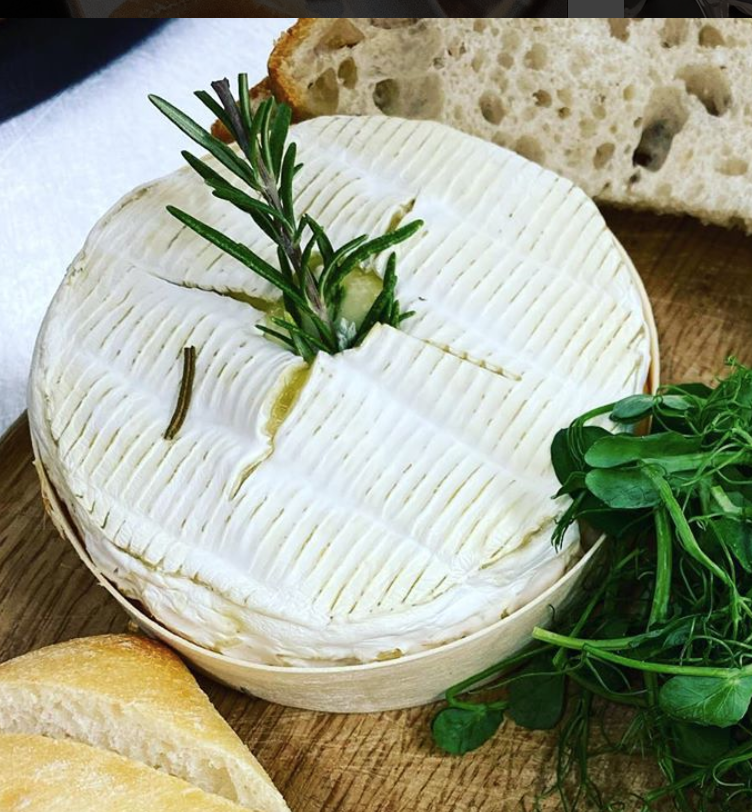camembert: (26, 116, 659, 674)
